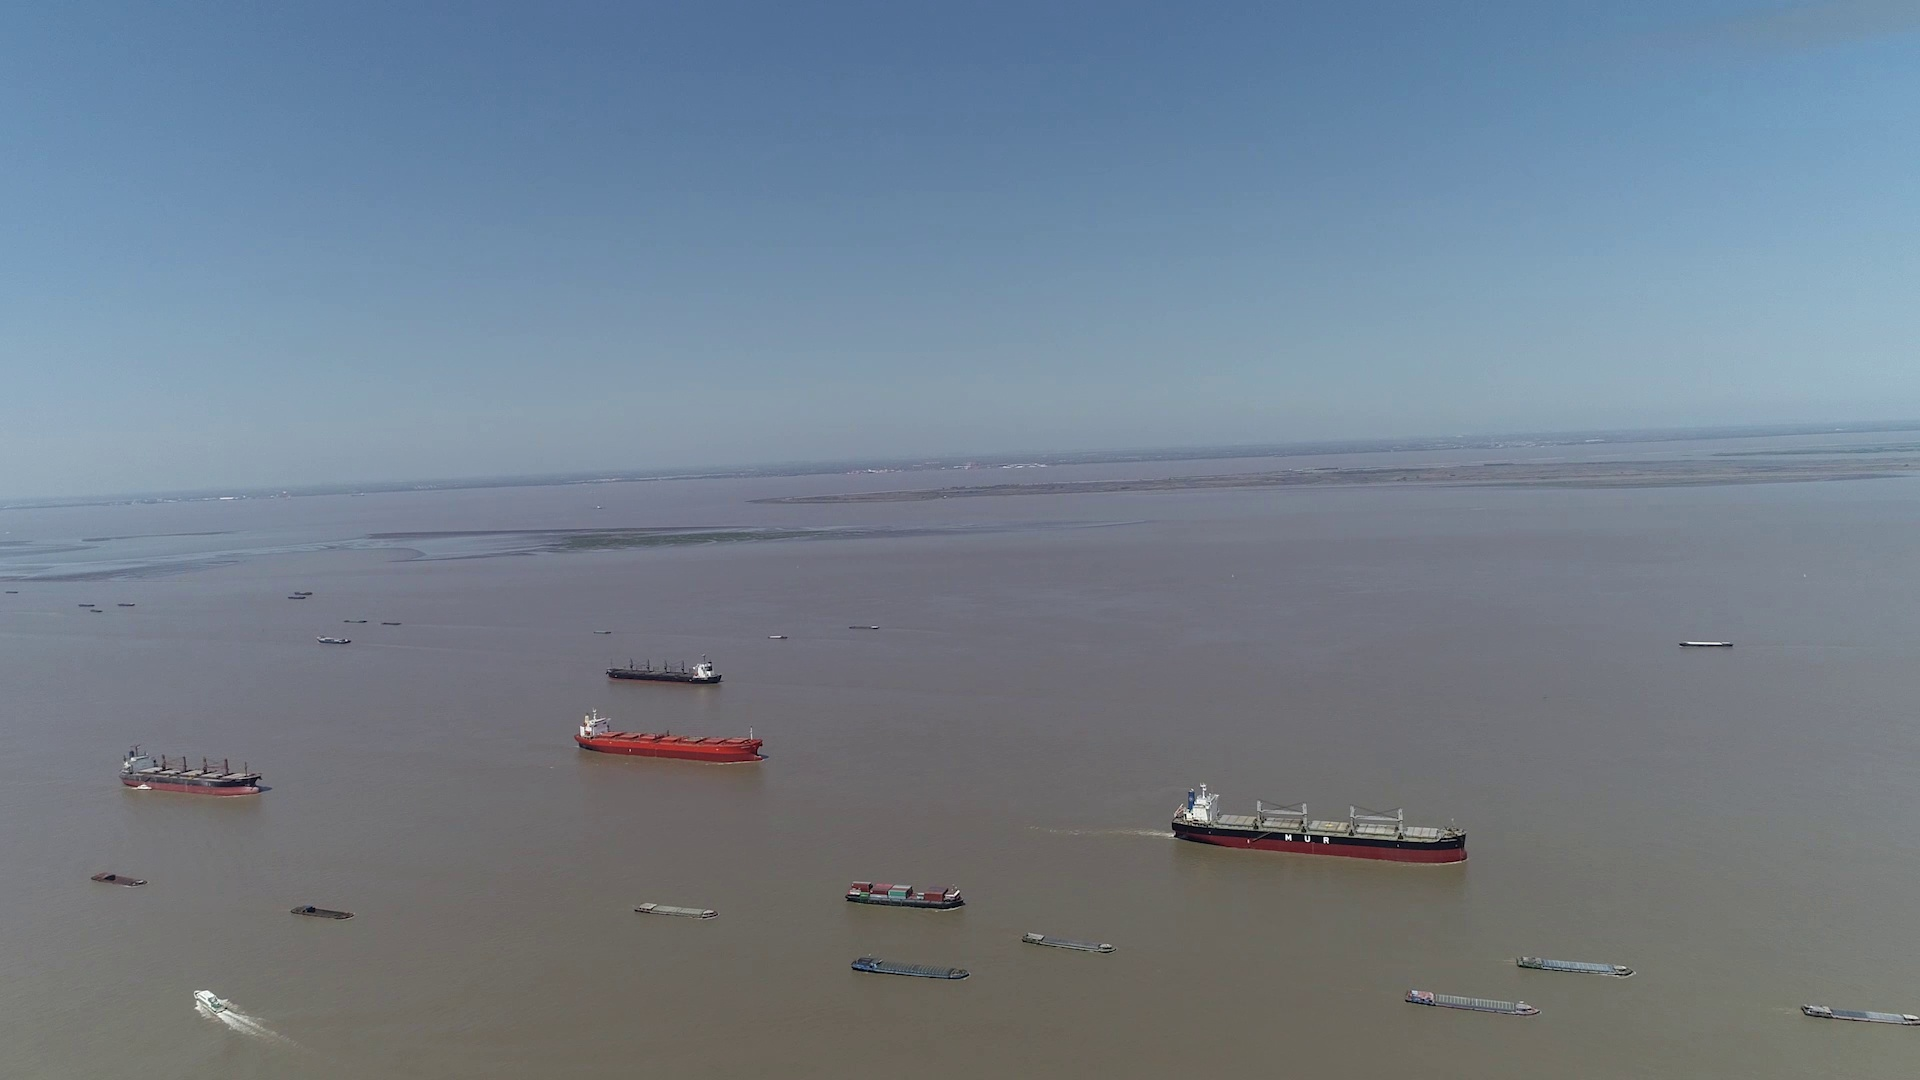ship: (1174, 785, 1469, 865), (574, 708, 764, 762), (120, 746, 262, 798), (847, 880, 967, 911), (1404, 989, 1539, 1017), (607, 655, 721, 683), (1799, 1002, 1920, 1026), (851, 956, 969, 978), (1519, 953, 1634, 976), (1022, 930, 1113, 953), (633, 902, 717, 919), (291, 905, 355, 920), (88, 872, 146, 887), (195, 992, 232, 1015), (1681, 640, 1733, 647), (318, 636, 351, 645)
